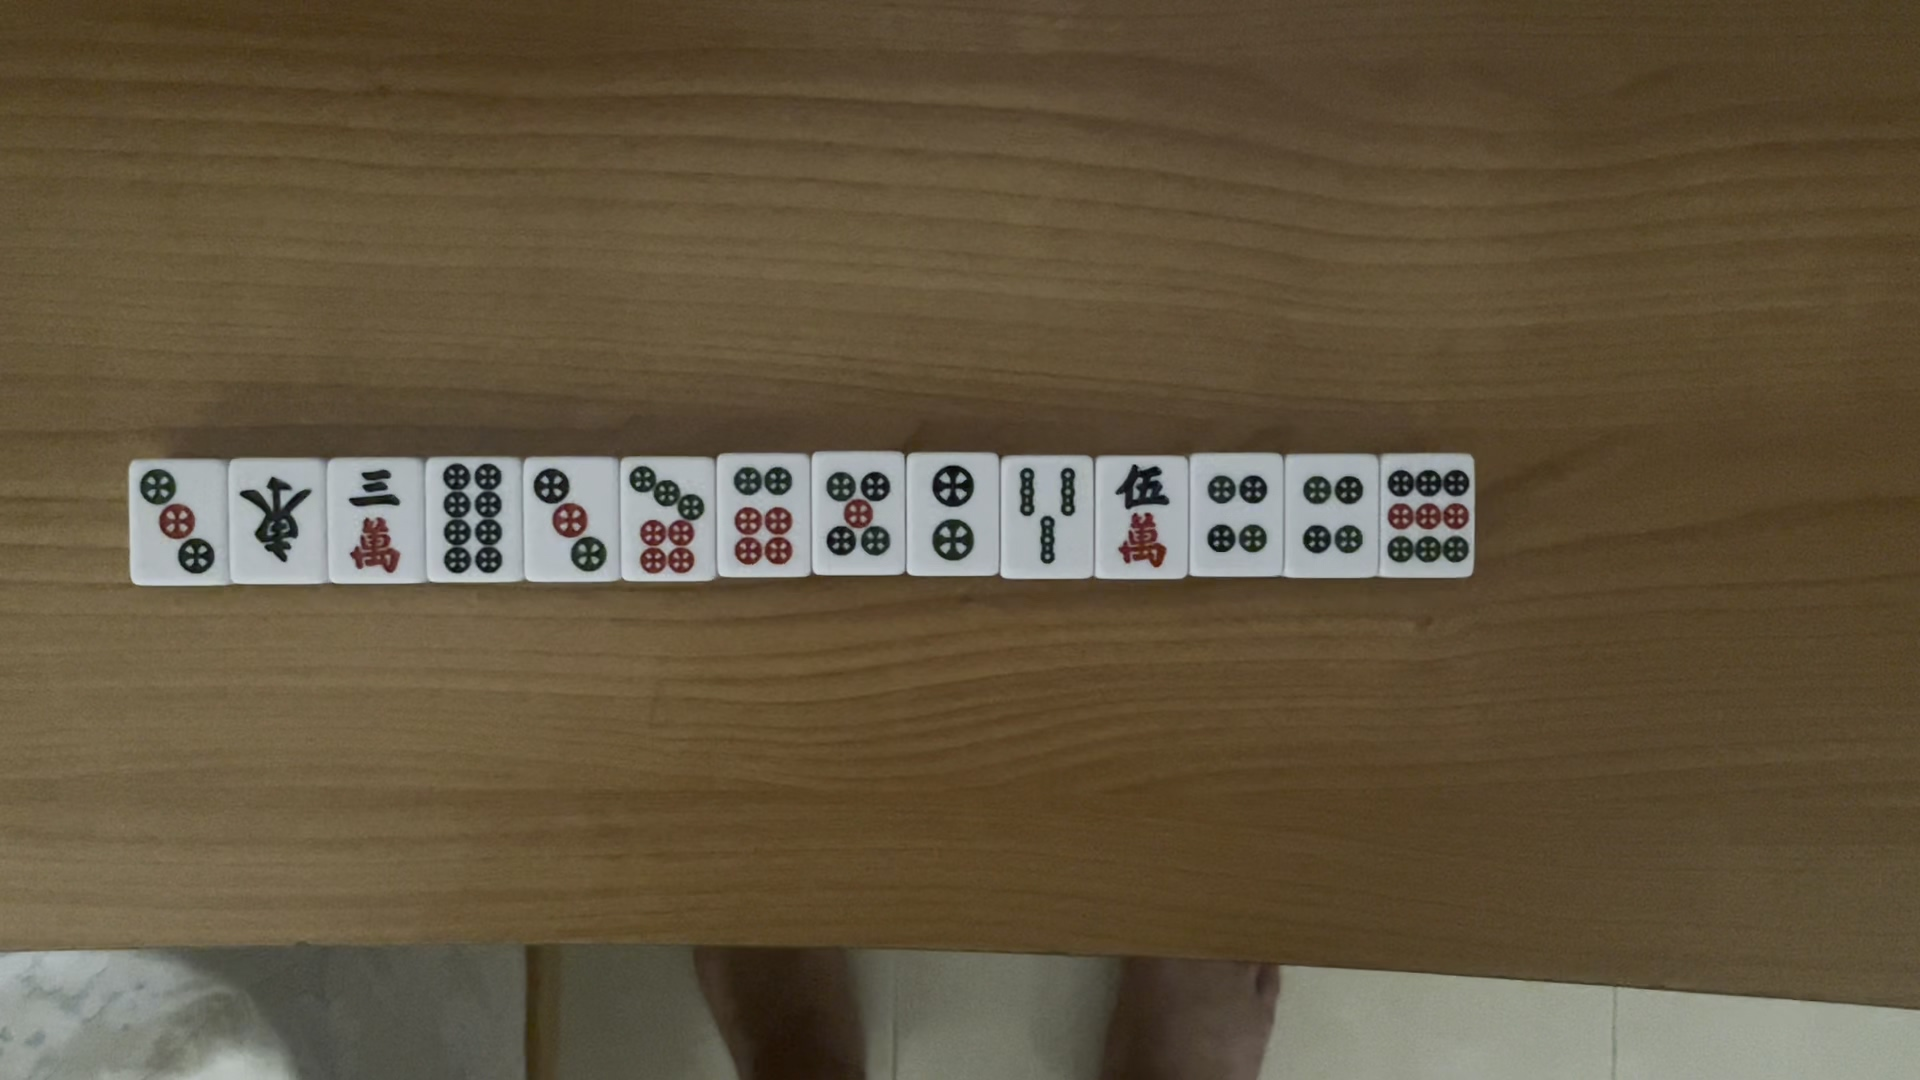b-3: (1015, 463, 1077, 568)
c-3: (335, 467, 410, 575)
c-5: (1110, 459, 1174, 572)
d-2: (915, 463, 984, 560)
d-3: (527, 465, 609, 575), (138, 463, 216, 578)
d-4: (1295, 469, 1366, 563), (1203, 469, 1273, 564)
d-5: (820, 462, 895, 563)
d-6: (725, 462, 799, 572)
d-7: (626, 463, 709, 579)
d-8: (433, 459, 513, 576)
d-9: (1387, 463, 1473, 568)
honors-east: (231, 473, 313, 574)
